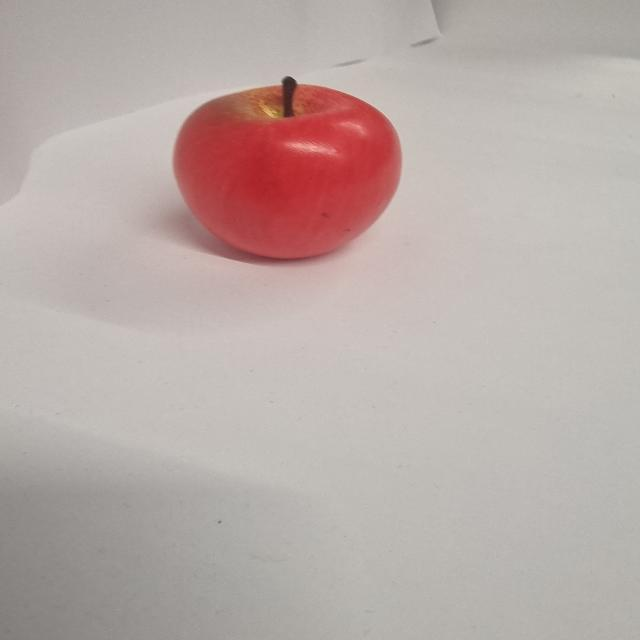apple: (175, 76, 404, 262)
